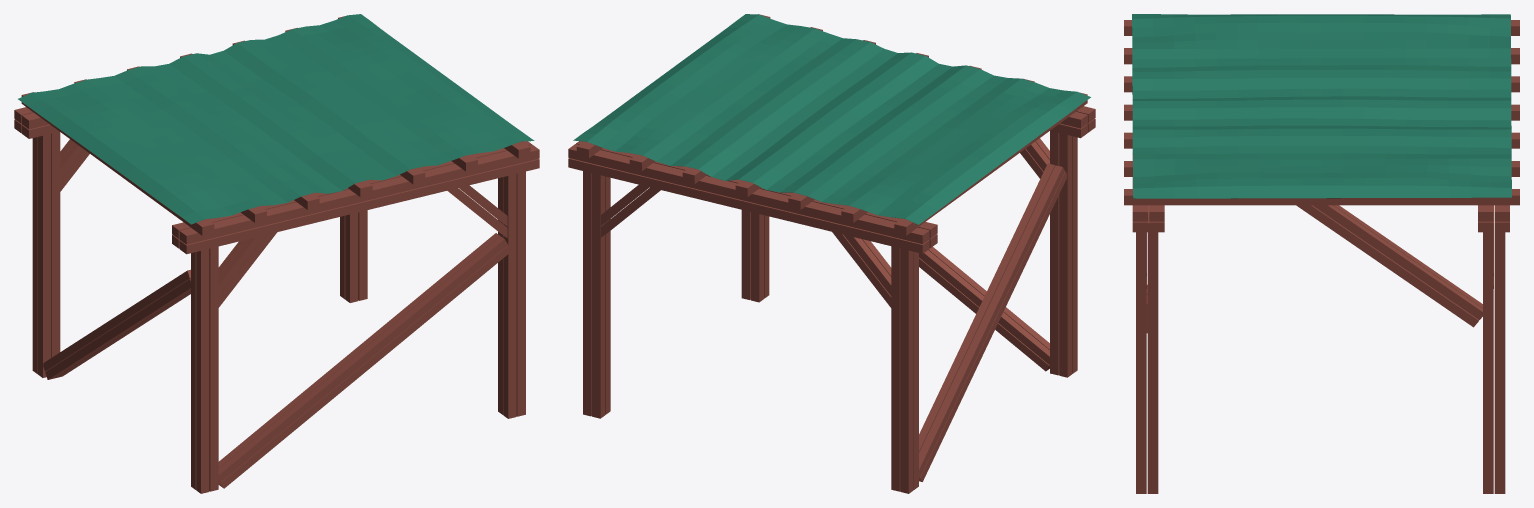
Rendered from furniture8.fbx.
3 renders of one model, left to right at view 1: azimuth 30°, elevation 25°; view 2: azimuth 150°, elevation 25°; view 3: azimuth 270°, elevation 25°, orthographic. The views are drawn at different scales.
Visible parts, largest first — view 1: Cube.122, Cube.087, Cube.114, Cube.088, Cube.071, Cube.067, Cube.079, Cube.112, Cube.072, Cube.080, Cube.068, Cube.115 (+12 smaller); view 2: Cube.122, Cube.085, Cube.110, Cube.086, Cube.069, Cube.077, Cube.073, Cube.111, Cube.070, Cube.078, Cube.074, Cube.108 (+13 smaller); view 3: Cube.122, Cube.121, Cube.082, Cube.078, Cube.076, Cube.080, Cube.111, Cube.109, Cube.110.
Boxes of the visible parts, x1=… form: Cube.122: x1=18, y1=14, x2=534, y2=224; Cube.087: x1=179, y1=144, x2=539, y2=244; Cube.114: x1=218, y1=236, x2=507, y2=482; Cube.088: x1=179, y1=159, x2=539, y2=254; Cube.071: x1=196, y1=249, x2=209, y2=493; Cube.067: x1=38, y1=134, x2=51, y2=377; Cube.079: x1=503, y1=174, x2=516, y2=418; Cube.112: x1=218, y1=245, x2=508, y2=488; Cube.072: x1=209, y1=246, x2=218, y2=491; Cube.080: x1=516, y1=171, x2=525, y2=416; Cube.068: x1=51, y1=131, x2=60, y2=357; Cube.115: x1=218, y1=233, x2=499, y2=468; Cube.122: x1=573, y1=14, x2=1090, y2=224; Cube.085: x1=568, y1=144, x2=929, y2=244; Cube.110: x1=919, y1=165, x2=1065, y2=477; Cube.086: x1=568, y1=158, x2=929, y2=253; Cube.069: x1=900, y1=248, x2=913, y2=493; Cube.077: x1=592, y1=173, x2=605, y2=418; Cube.073: x1=1059, y1=133, x2=1072, y2=377; Cube.111: x1=919, y1=163, x2=1054, y2=452; Cube.070: x1=891, y1=246, x2=900, y2=491; Cube.078: x1=583, y1=171, x2=591, y2=416; Cube.074: x1=1050, y1=131, x2=1059, y2=375; Cube.108: x1=919, y1=171, x2=1066, y2=481; Cube.122: x1=1132, y1=14, x2=1511, y2=198; Cube.121: x1=1124, y1=189, x2=1519, y2=205; Cube.082: x1=1147, y1=219, x2=1158, y2=493; Cube.078: x1=1494, y1=232, x2=1505, y2=493; Cube.076: x1=1483, y1=219, x2=1493, y2=493; Cube.080: x1=1136, y1=232, x2=1146, y2=493; Cube.111: x1=1313, y1=205, x2=1482, y2=320; Cube.109: x1=1296, y1=205, x2=1478, y2=327; Cube.110: x1=1333, y1=205, x2=1482, y2=307.
Bounding box in the file's own units: 449 × 339 × 398.
